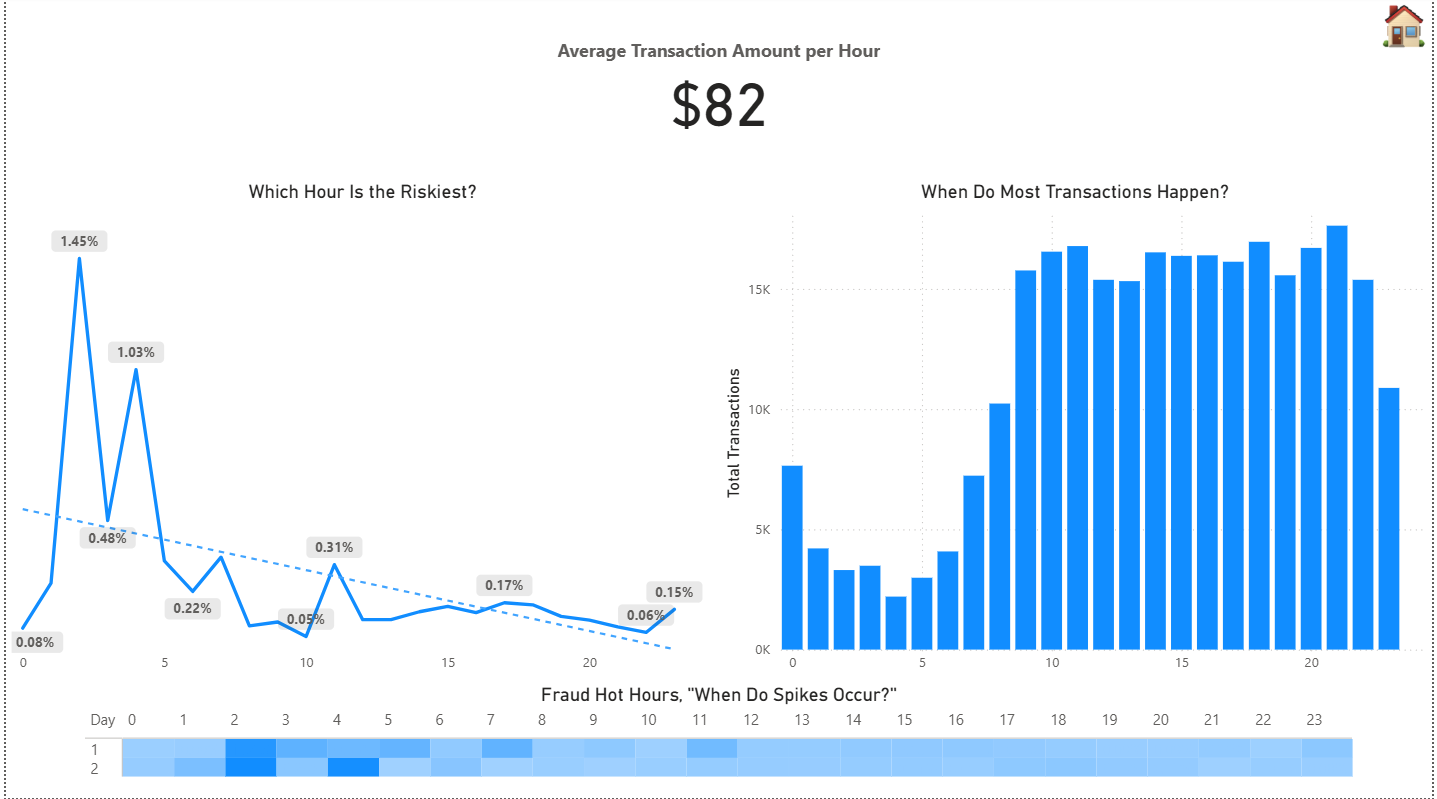

The page's visual inventory and layout, read from the dashboard file:
{"tool":"powerbi","page":{"name":"Transactions by Hour","canvas":[1280,720],"ordinal":2},"visuals":[{"type":"clusteredColumnChart","title":"When Do Most Transactions Happen?","fields":{"Category":["fraud_summary_by_hour.transaction_hour"],"Y":["Sum(fraud_summary_by_hour.total_transactions)"]},"box":[640.5,165.1,639.5,451.6],"z":0},{"type":"lineChart","title":"Which Hour Is the Riskiest?","fields":{"Category":["fraud_summary_by_hour.transaction_hour"],"Y":["Avg(fraud_summary_by_hour.fraud_rate)"]},"box":[0,165.1,640.5,451.6],"z":1000},{"type":"pivotTable","title":"Fraud Hot Hours, \"When Do Spikes Occur?\"","fields":{"Values":["Avg(fraud_summary_by_hour.fraud_rate)"],"Columns":["fraud_summary_by_hour.transaction_hour"],"Rows":["fraud_summary_by_hour.date.Variation.Date Hierarchy.Day"]},"box":[65.4,616.6,1149.2,103.8],"z":2000},{"type":"cardVisual","fields":{"Data":["Avg(fraud_summary_by_hour.avg_amount)"]},"box":[0,0,1280,165.1],"z":3000},{"type":"image","box":[1230.2,0,49.8,54],"z":4000}]}

Visuals, with their boxes in screenshot pixels (x1, y1, x2, y2), scaled from the page's 1280x720 canvas onto the 1437x799 screenshot:
"When Do Most Transactions Happen?" clusteredColumnChart: region(719, 183, 1436, 684)
"Which Hour Is the Riskiest?" lineChart: region(0, 183, 719, 684)
"Fraud Hot Hours, "When Do Spikes Occur?"" pivotTable: region(73, 684, 1364, 798)
cardVisual - Avg(fraud_summary_by_hour.avg_amount): region(0, 0, 1436, 183)
image: region(1381, 0, 1436, 60)
